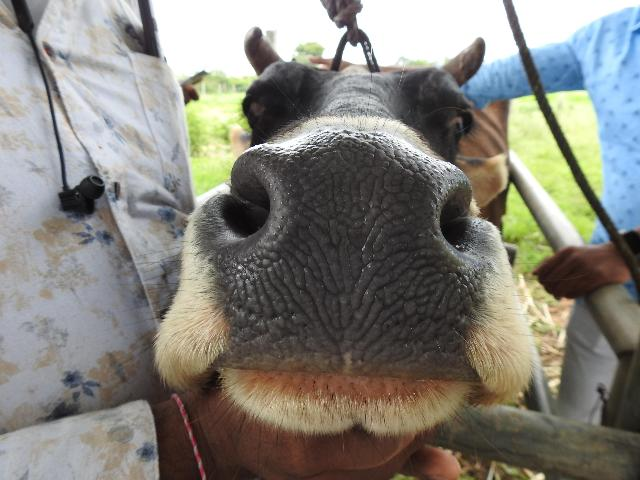Muzzle: (252, 148, 440, 364)
